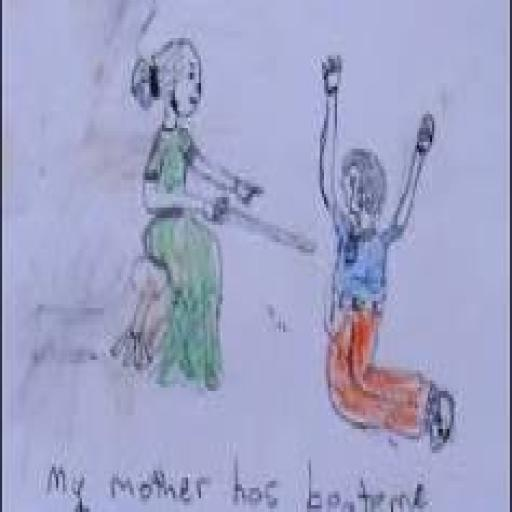person: (108, 26, 264, 409), (316, 52, 455, 453)
